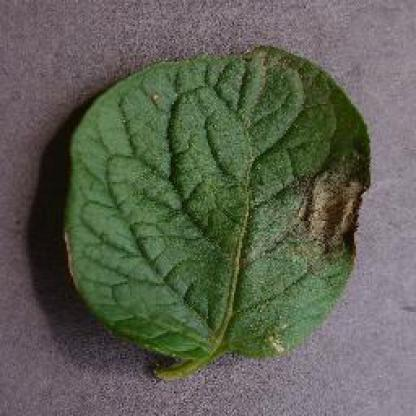bad leaf: (24, 52, 414, 372)
